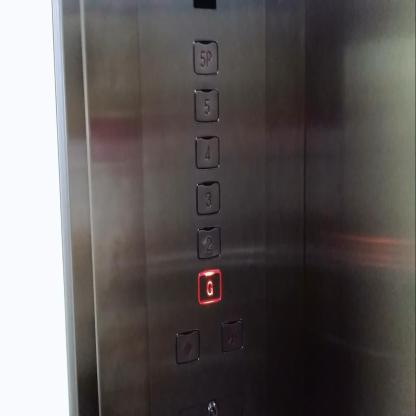2: (196, 223, 221, 261)
3: (194, 180, 222, 216)
4: (193, 132, 222, 170)
5: (192, 86, 222, 125)
5P: (192, 38, 219, 78)
G: (197, 269, 222, 308)
close: (220, 317, 246, 355)
open: (174, 328, 202, 364)
